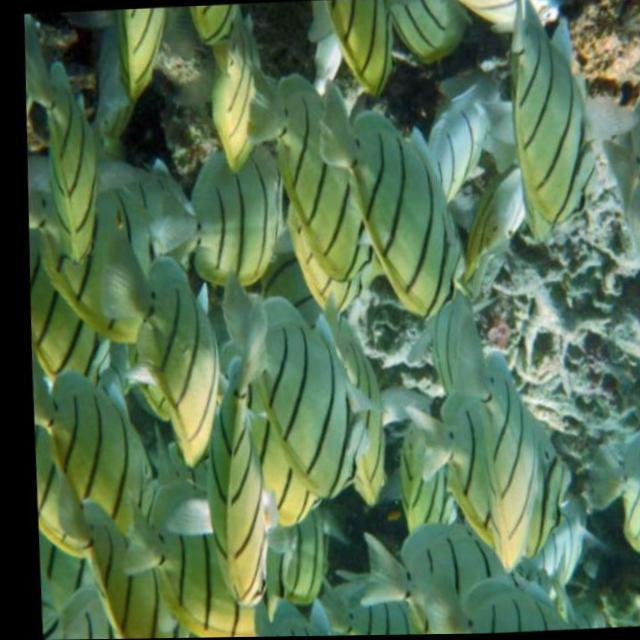Dead Coral: (503, 252, 640, 434)
